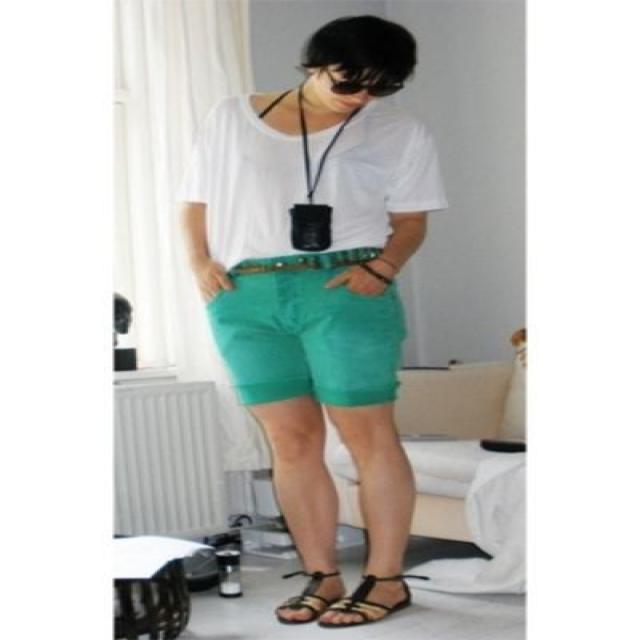shirt: (188, 99, 454, 268)
shoe: (288, 576, 402, 626)
shorts: (206, 247, 406, 408)
sunglass: (331, 68, 397, 96)
